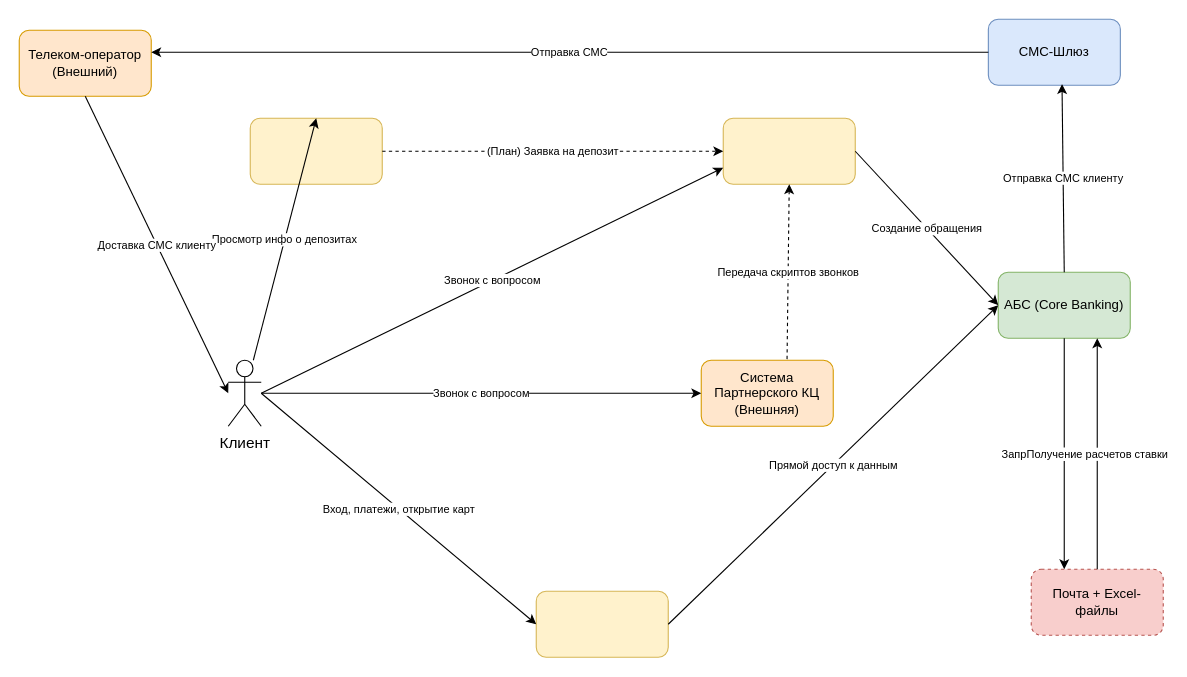
Some shapes in this 1187 by 677 pixel diagram are drawn without their labels. The shapes that lost their labels are listed below. From the top down, each one's centre as x and y in pixels, then its label:
At point 315,150: "Веб-Сайт".
At point 788,150: "Система Кол-Центра".
At point 601,623: "Интернет-Банк".
